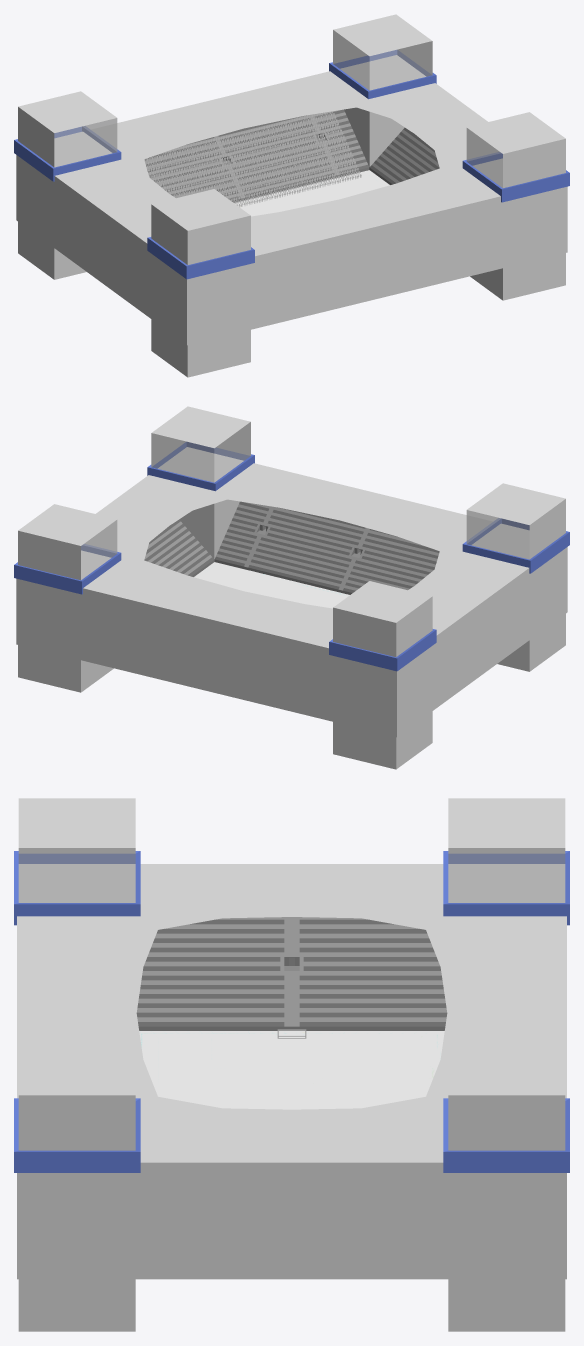
The model's file is field.fbx.
3 views of the same model, one above another, from view 1: azimuth 30°, elevation 25°; view 2: azimuth 150°, elevation 25°; view 3: azimuth 270°, elevation 25° (orthographic). The views are drawn at different scales.
Parts seen in each view (by area): view 1: Ceiling, UMCG_Towers, Placeholder_Audience, Seats_Long, Field, Seats_Short; view 2: Ceiling, UMCG_Towers, Seats_Long, Field, Seats_Short; view 3: Ceiling, UMCG_Towers, Seats_Short, Field.
Boxes of the visible parts, box(x1,y1,x2,y2) form: Ceiling: box(16, 55, 567, 345); UMCG_Towers: box(14, 14, 569, 377); Placeholder_Audience: box(144, 111, 361, 207); Seats_Long: box(145, 109, 369, 202); Field: box(234, 170, 389, 216); Seats_Short: box(369, 127, 439, 184); Ceiling: box(16, 447, 567, 737); UMCG_Towers: box(14, 406, 569, 769); Seats_Long: box(214, 501, 439, 594); Field: box(194, 562, 349, 608); Seats_Short: box(144, 519, 214, 576); Ceiling: box(17, 864, 566, 1279); UMCG_Towers: box(14, 798, 569, 1331); Seats_Short: box(136, 917, 447, 1030); Field: box(139, 1031, 444, 1109).
Size of the model in its own units: 18241 by 6672 by 14241.
